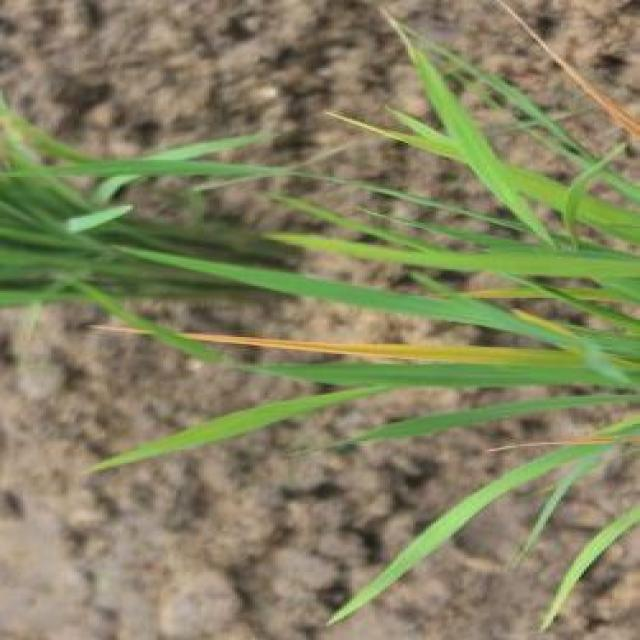Tungro: (162, 315, 536, 380), (482, 427, 634, 474)
